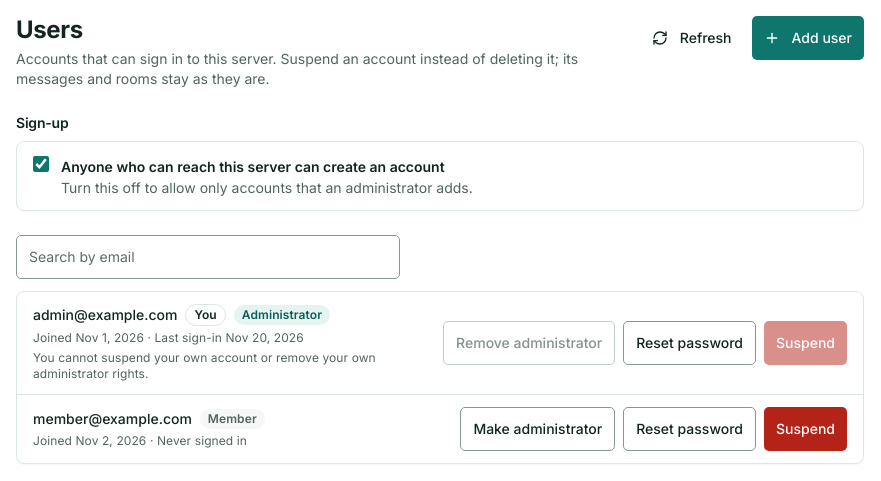
Test case: [AUTH-17] suspends a member after confirmation
Click the button "Suspend" in the row of "member@example.com".
click(806, 429)  # box [764,407,847,451]
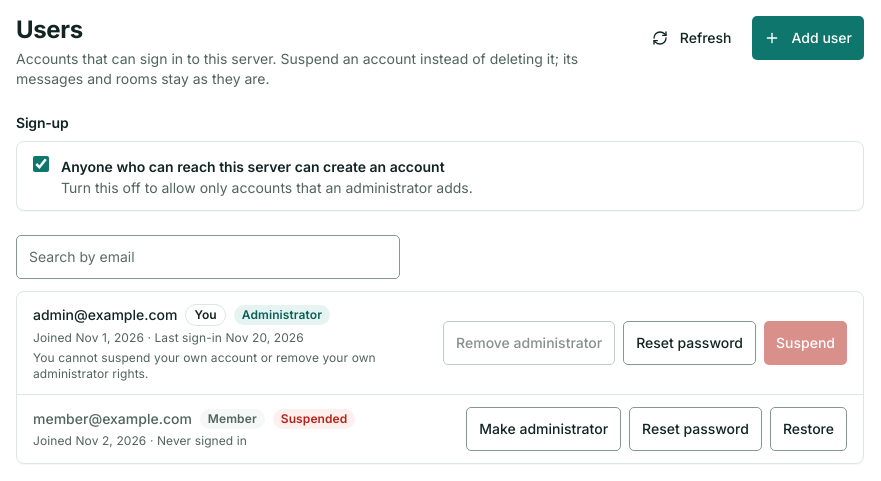
Check: the text "Suspended" is shown, box [273,409,355,429]
